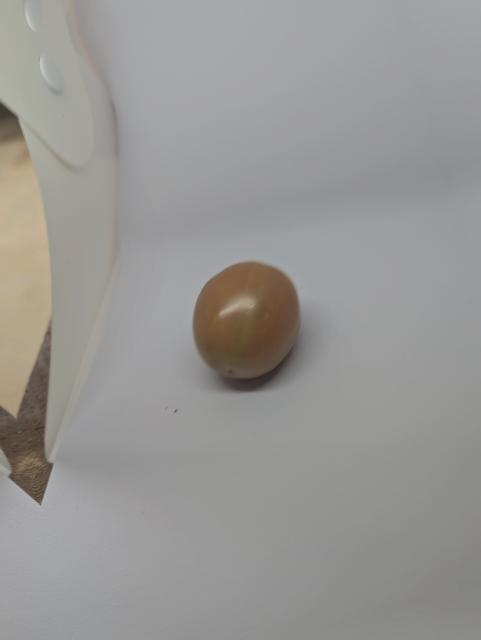turning: (184, 255, 310, 388)
